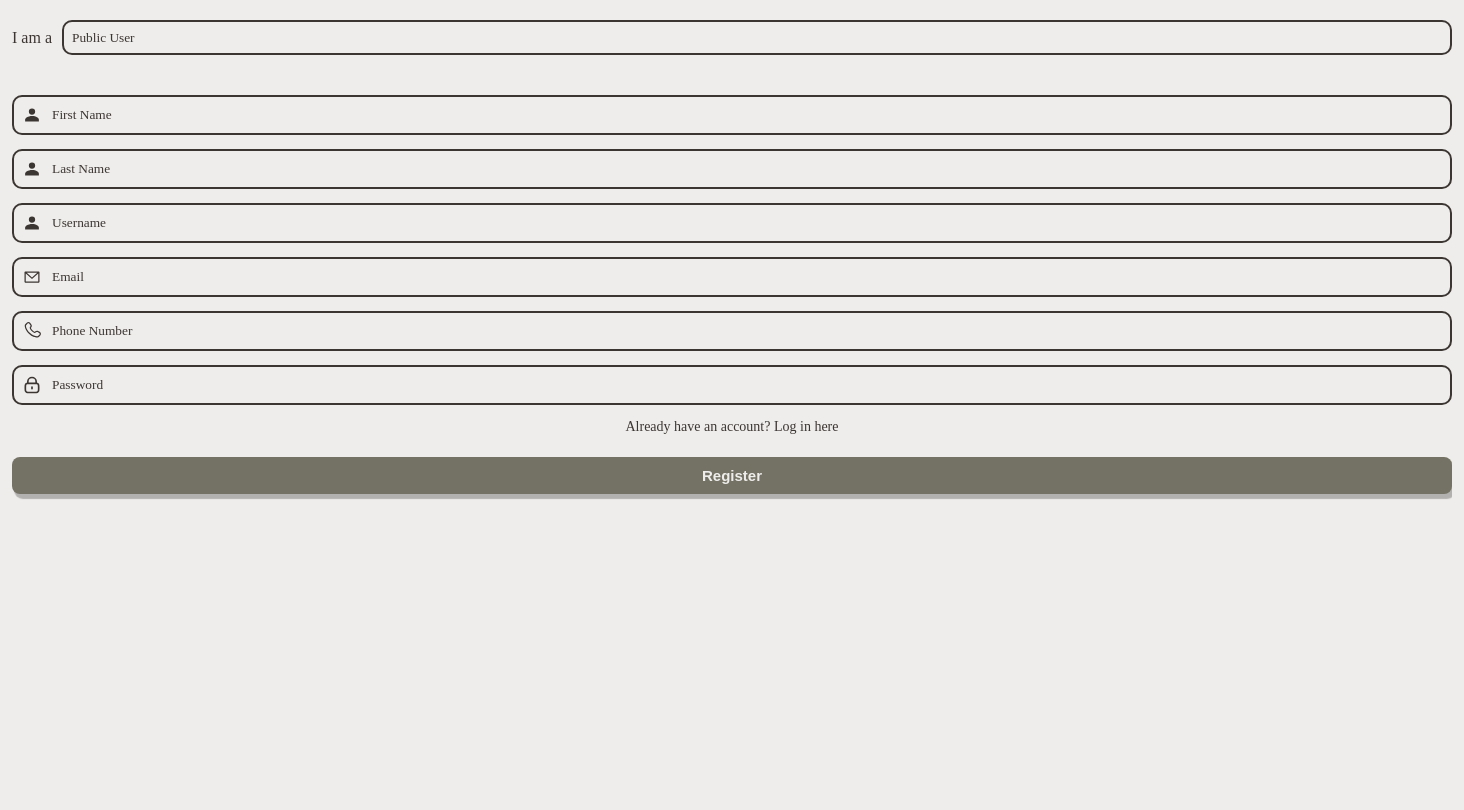
Test: SignUpAsClient Component › displays "Required" for all empty fields on form submission
This screenshot has width=1464, height=810.
What coordinates should you click on to do the following:
click the button "Register"
I would click on:
 (732, 476)
Its box is [12, 457, 1452, 494].
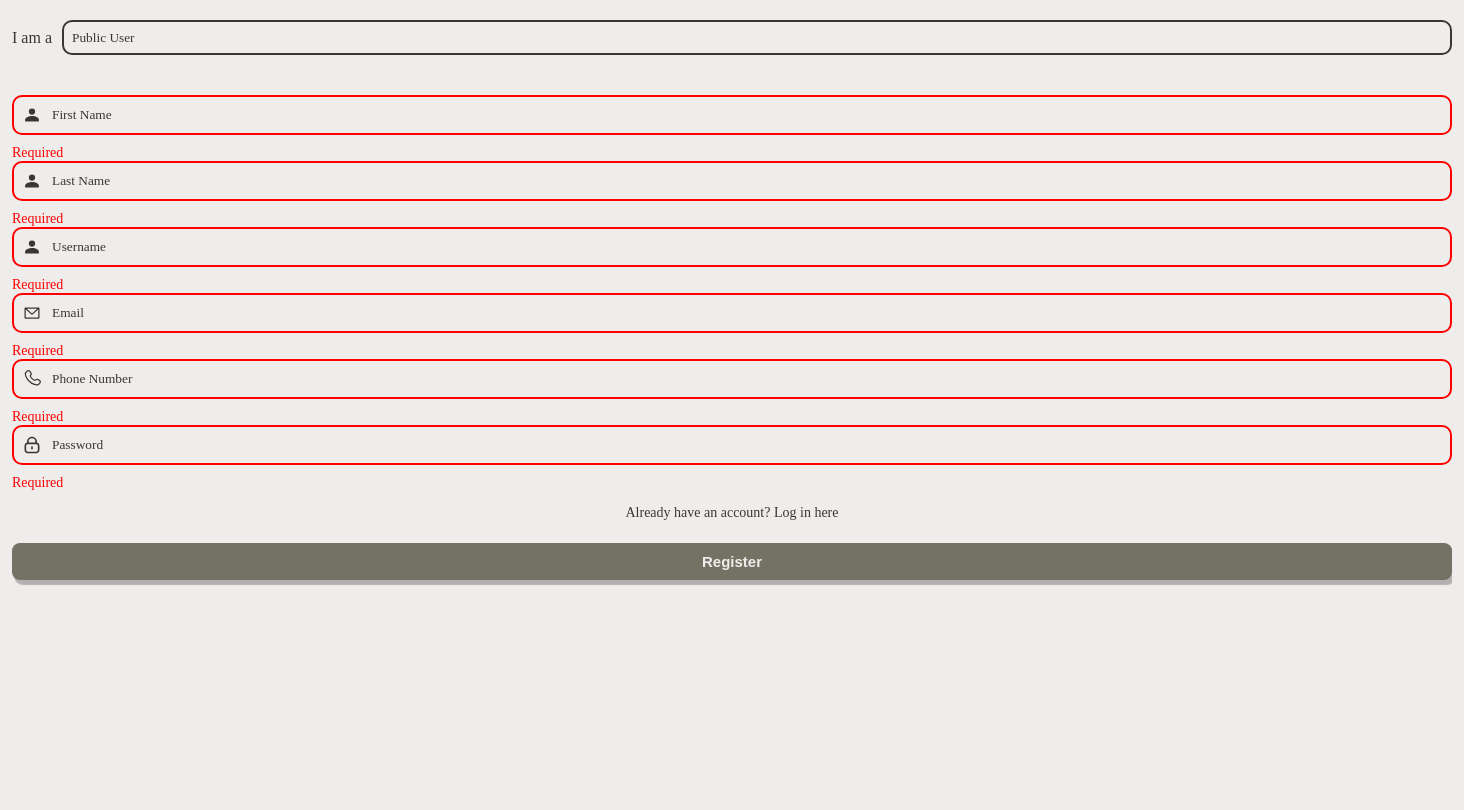
Now the 1st text "Required" is shown, box [12, 145, 63, 160]
